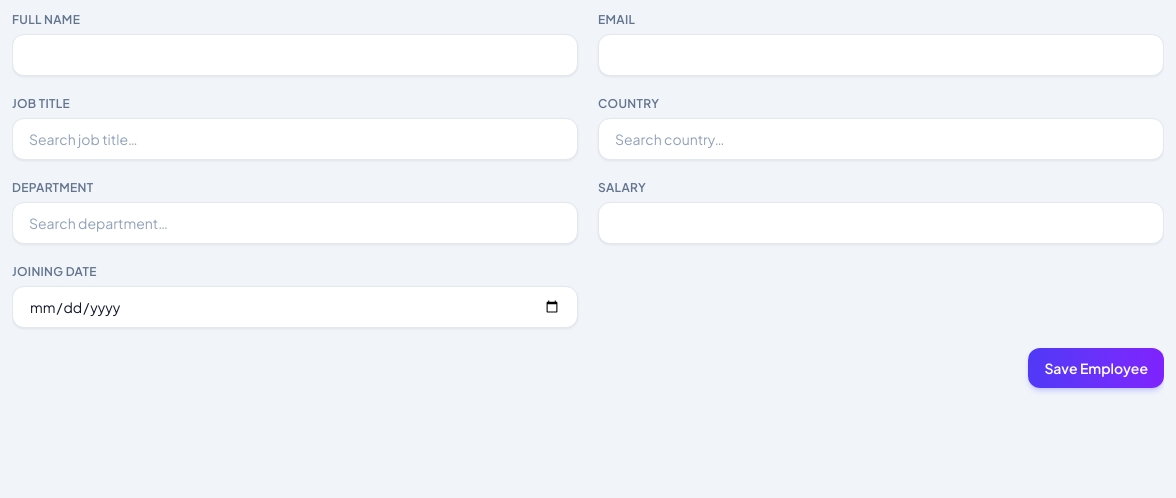
EmployeeForm › shows validation errors for invalid input
This screenshot has width=1176, height=498.
Click the button "Save Employee". click: [1096, 368]
box: [1028,348,1164,388]
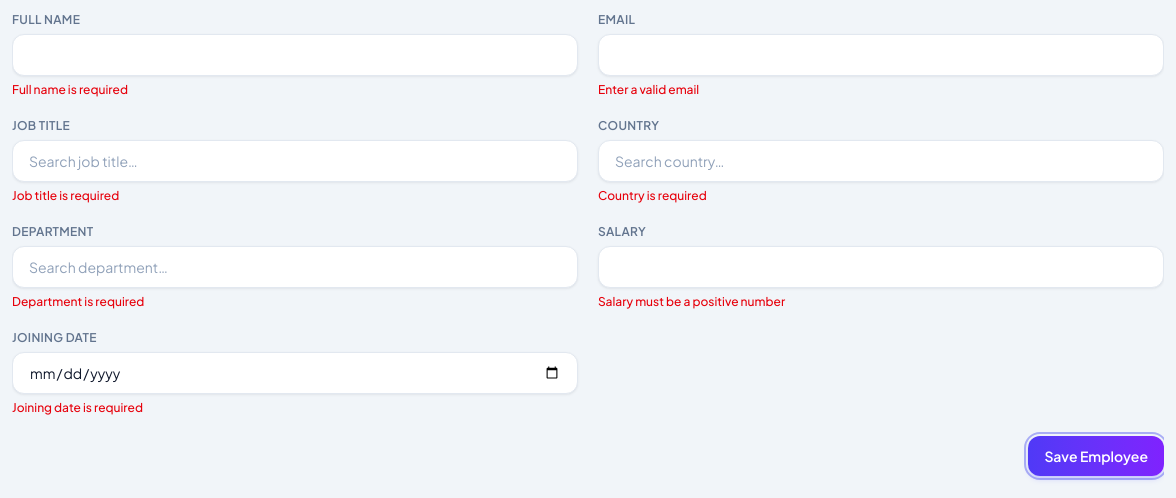
Expected: the text "Full name is required" is shown, [12,82,128,97]
Expected: the text "Enter a valid email" is shown, [598,82,699,97]
